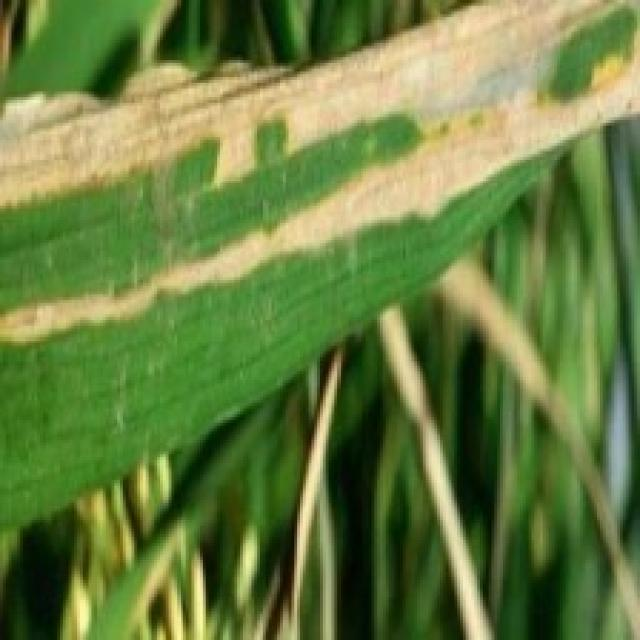Rice___Bacterial_Leaf_Blight: (0, 0, 637, 533)
